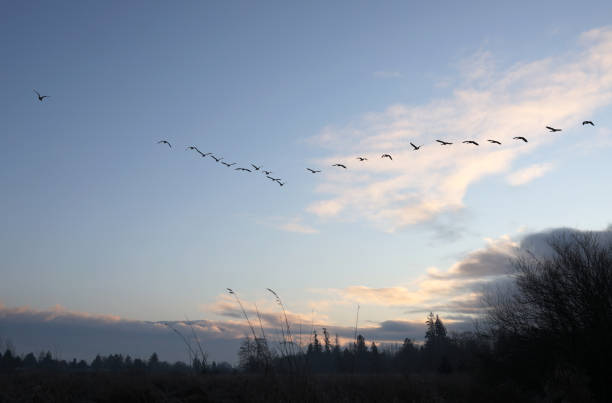goose: (30, 87, 54, 103), (153, 137, 173, 150), (543, 123, 564, 135), (407, 139, 424, 153), (435, 138, 453, 148), (579, 119, 597, 129), (233, 166, 252, 175), (196, 149, 213, 158), (221, 161, 238, 170), (208, 155, 224, 164), (303, 166, 321, 174), (486, 139, 503, 147), (512, 136, 529, 144), (183, 143, 197, 152), (462, 140, 480, 147), (330, 162, 347, 169), (379, 152, 393, 160), (266, 176, 281, 183), (354, 155, 368, 162), (262, 170, 273, 178), (251, 163, 261, 171), (276, 181, 285, 188)
